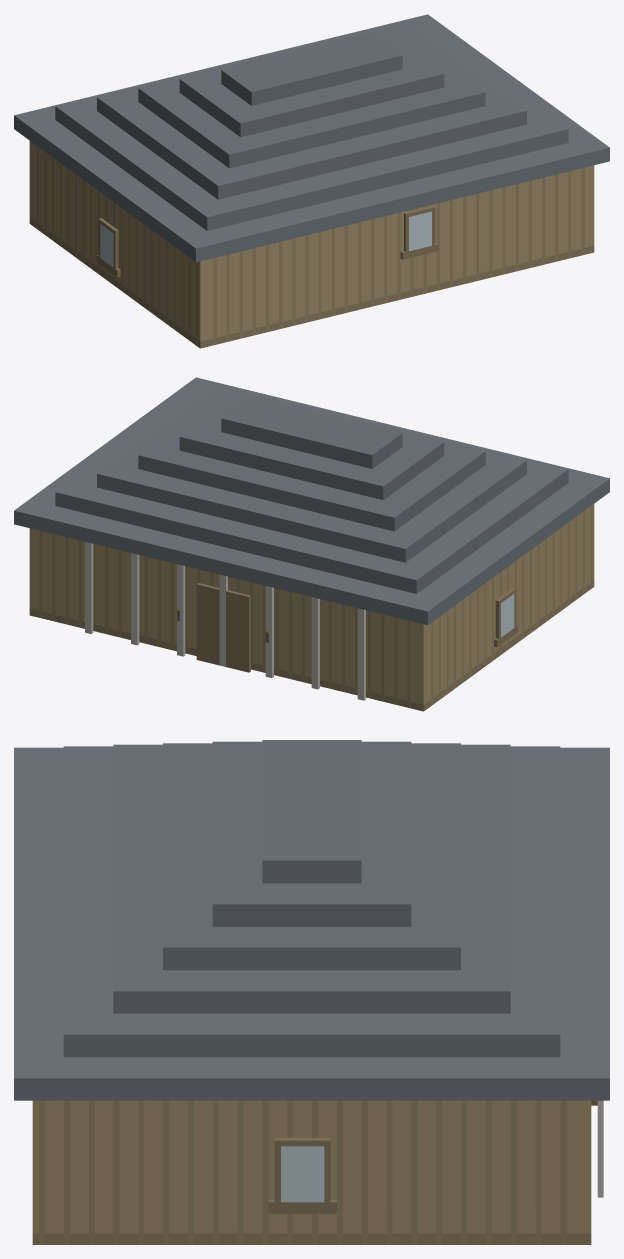
Rendered from casino_04.glb.
The picture shows the model from 3 angles, top to bottom: view 1: azimuth 30°, elevation 25°; view 2: azimuth 150°, elevation 25°; view 3: azimuth 270°, elevation 25°; orthographic projection. The views are drawn at different scales.
Parts seen in each view (by area): view 1: casino_04; view 2: casino_04; view 3: casino_04.
Part boxes in pixels (x1,y1,x2,y2): casino_04: (14, 14, 609, 348); casino_04: (14, 377, 609, 711); casino_04: (14, 740, 609, 1244).
Size of the model in its own units: 12.6 by 5.1 by 9.6.
